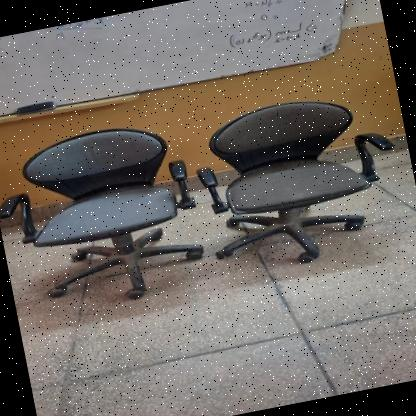chair: (186, 73, 416, 282), (0, 111, 211, 327)
